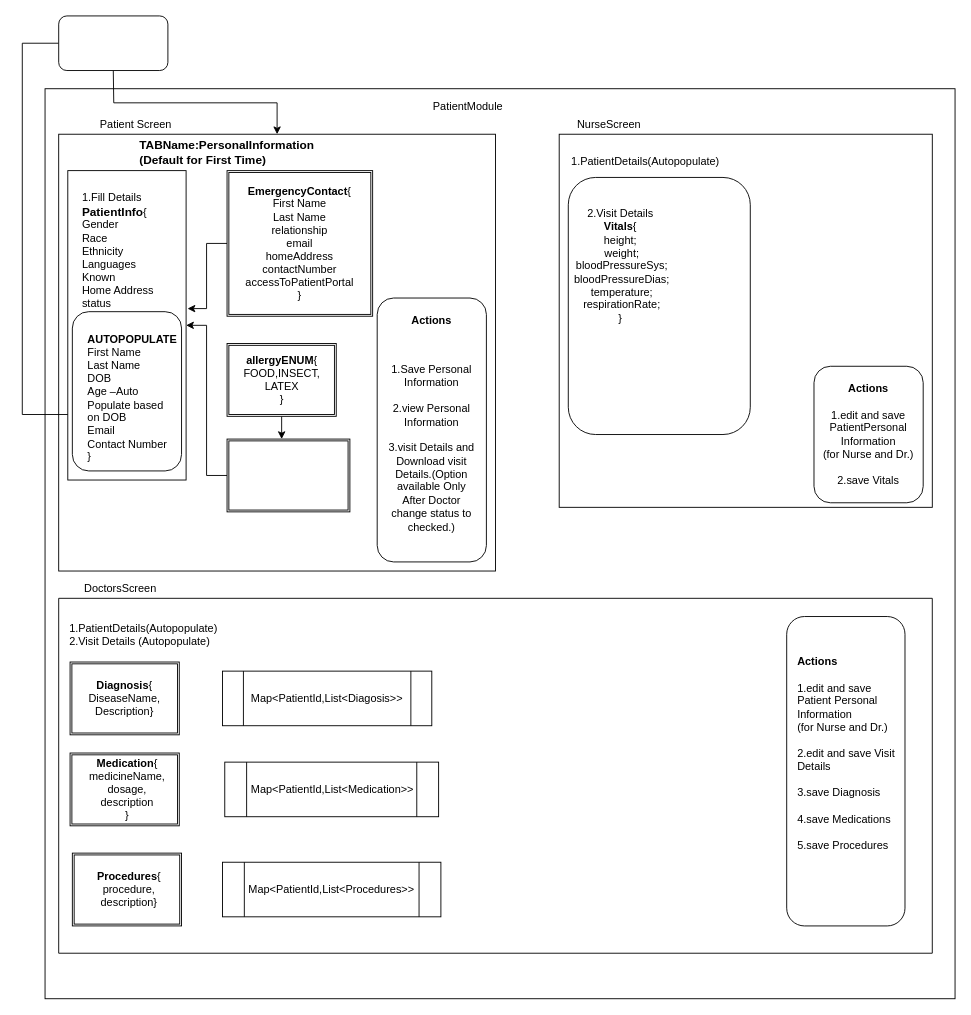
The diagram is 971 pixels wide and 1015 high, and some of its shapes have lost their labels. Each missing label, with the centre of its shape:
"After successful LogIn" goes at pixel 113 43.
"Allergy { List<String,Boolean> Allergies }" goes at pixel 288 475.
